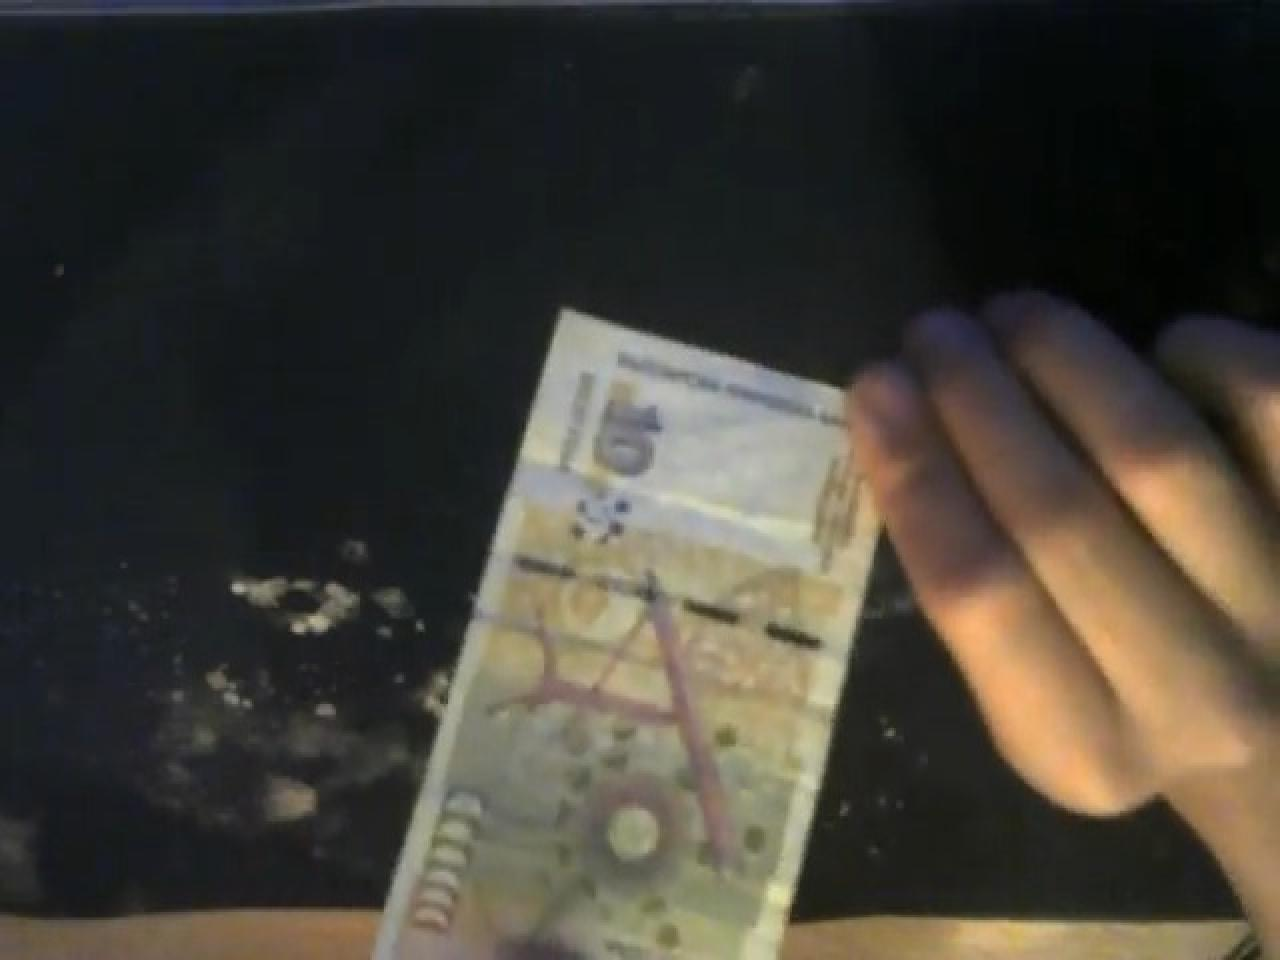10leva: (368, 304, 884, 960)
